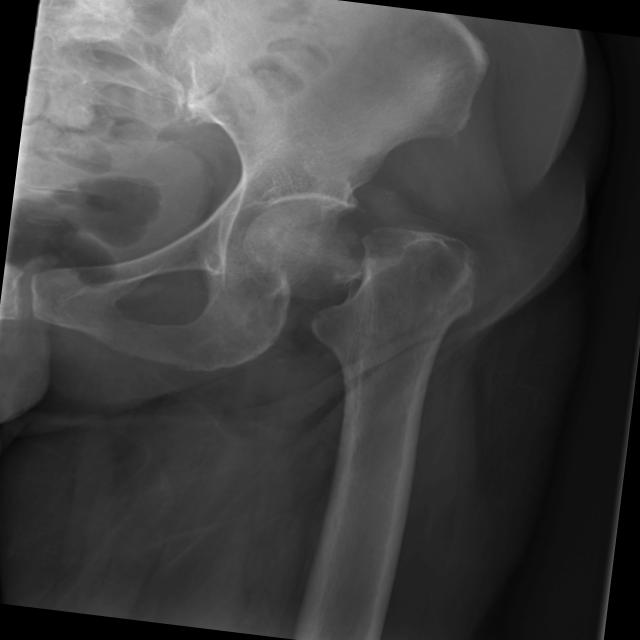left-neck: (310, 226, 481, 431), (243, 200, 364, 300)
